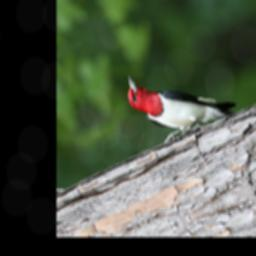Woodpecker: (116, 38, 241, 155)
